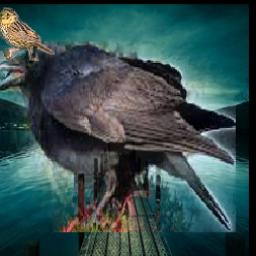Crow: (0, 42, 236, 233)
Sparrow: (0, 7, 56, 61)
